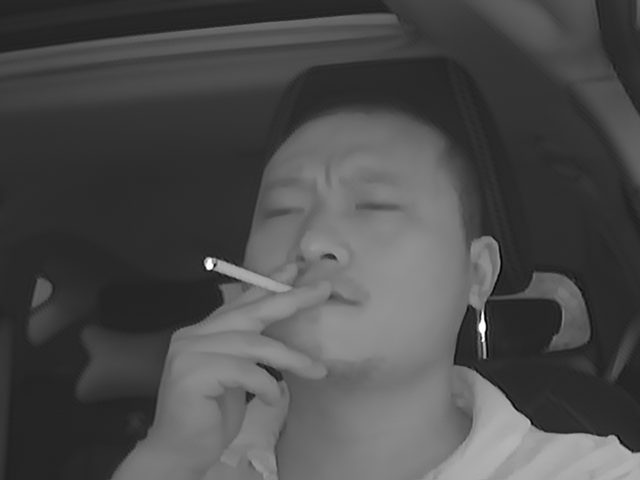hand: (186, 260, 330, 420)
